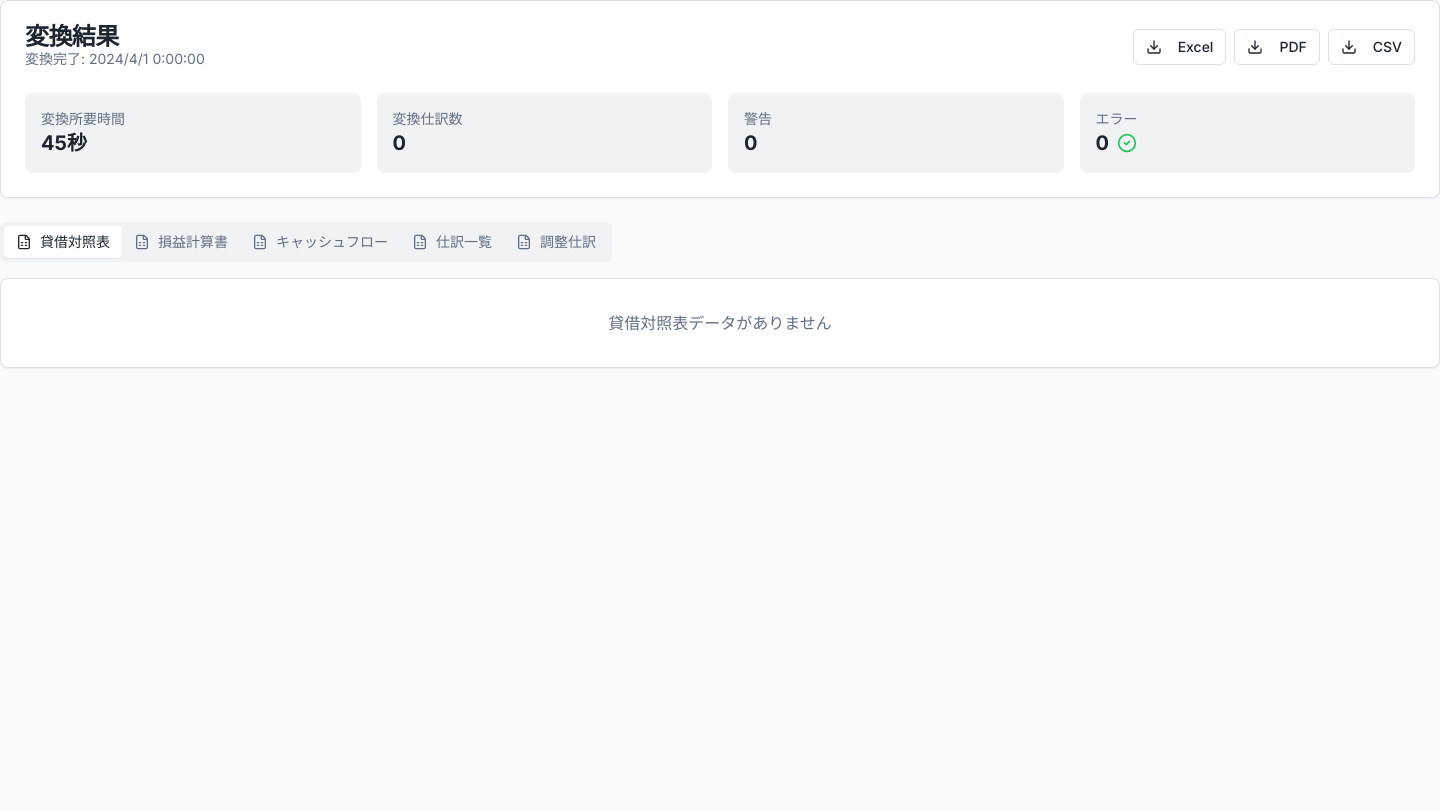
Test case: conversion-result-viewer — adjusting entries tab › renders each adjustment line with code/name and debit/credit amounts
Press the mouse on the tab "調整仕訳": point(556, 242) [504,226,608,258]
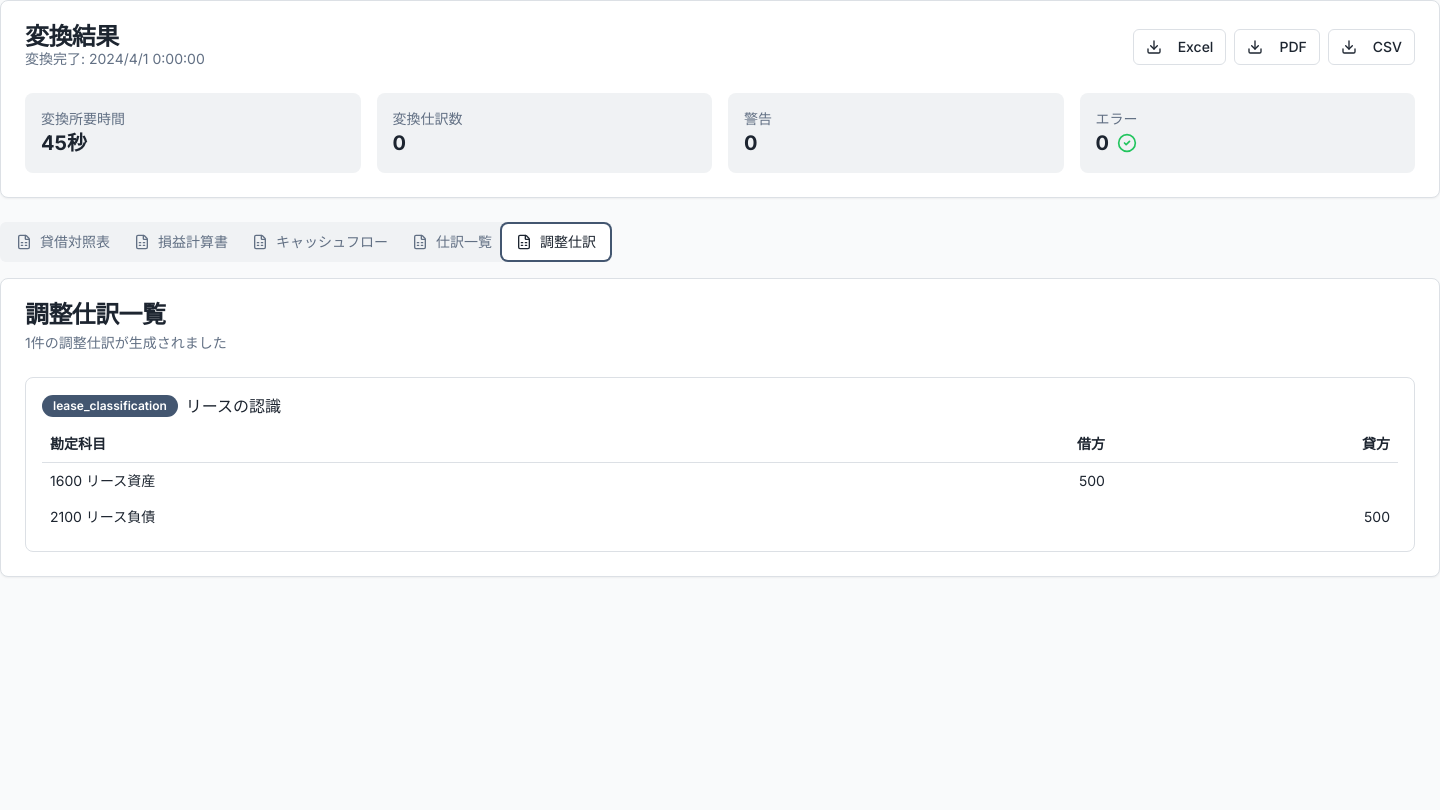
expect the cell "1600 リース資産" is shown: met, box [42,462,828,499]
expect the cell "500" in the row of "1600" is shown: met, box [1079,472,1105,489]
expect the cell in the row of "1600" is empty: met, box [1113,462,1398,499]
